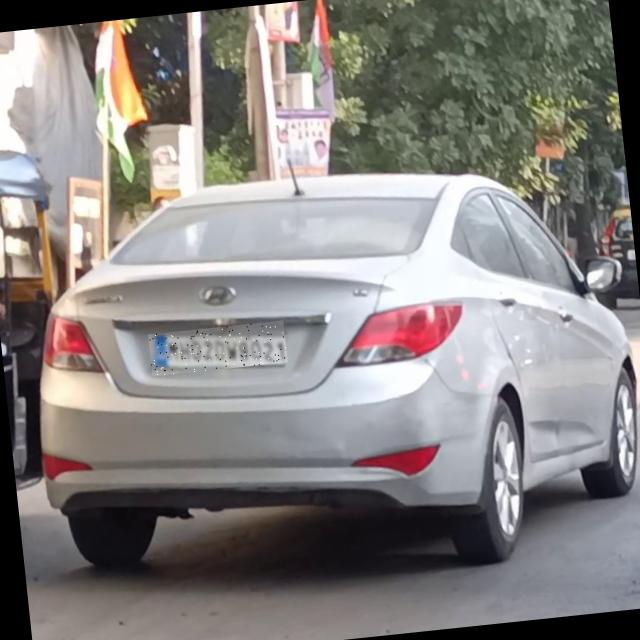Plate: (149, 321, 289, 377)
